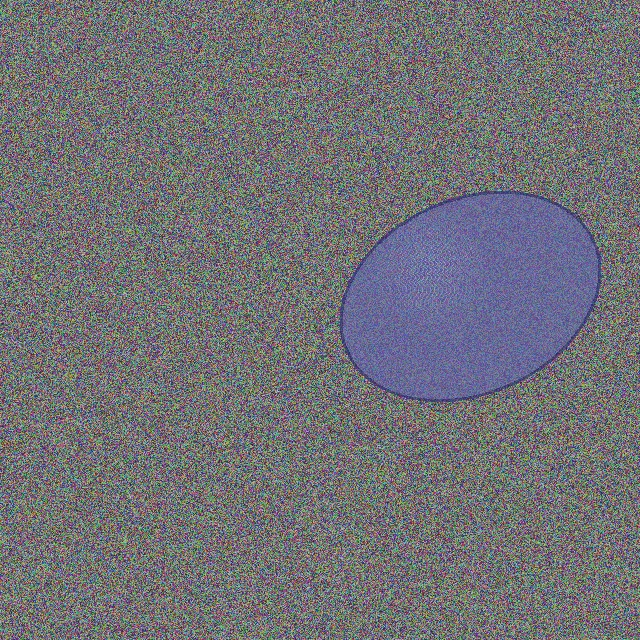lens: (341, 192, 599, 400)
